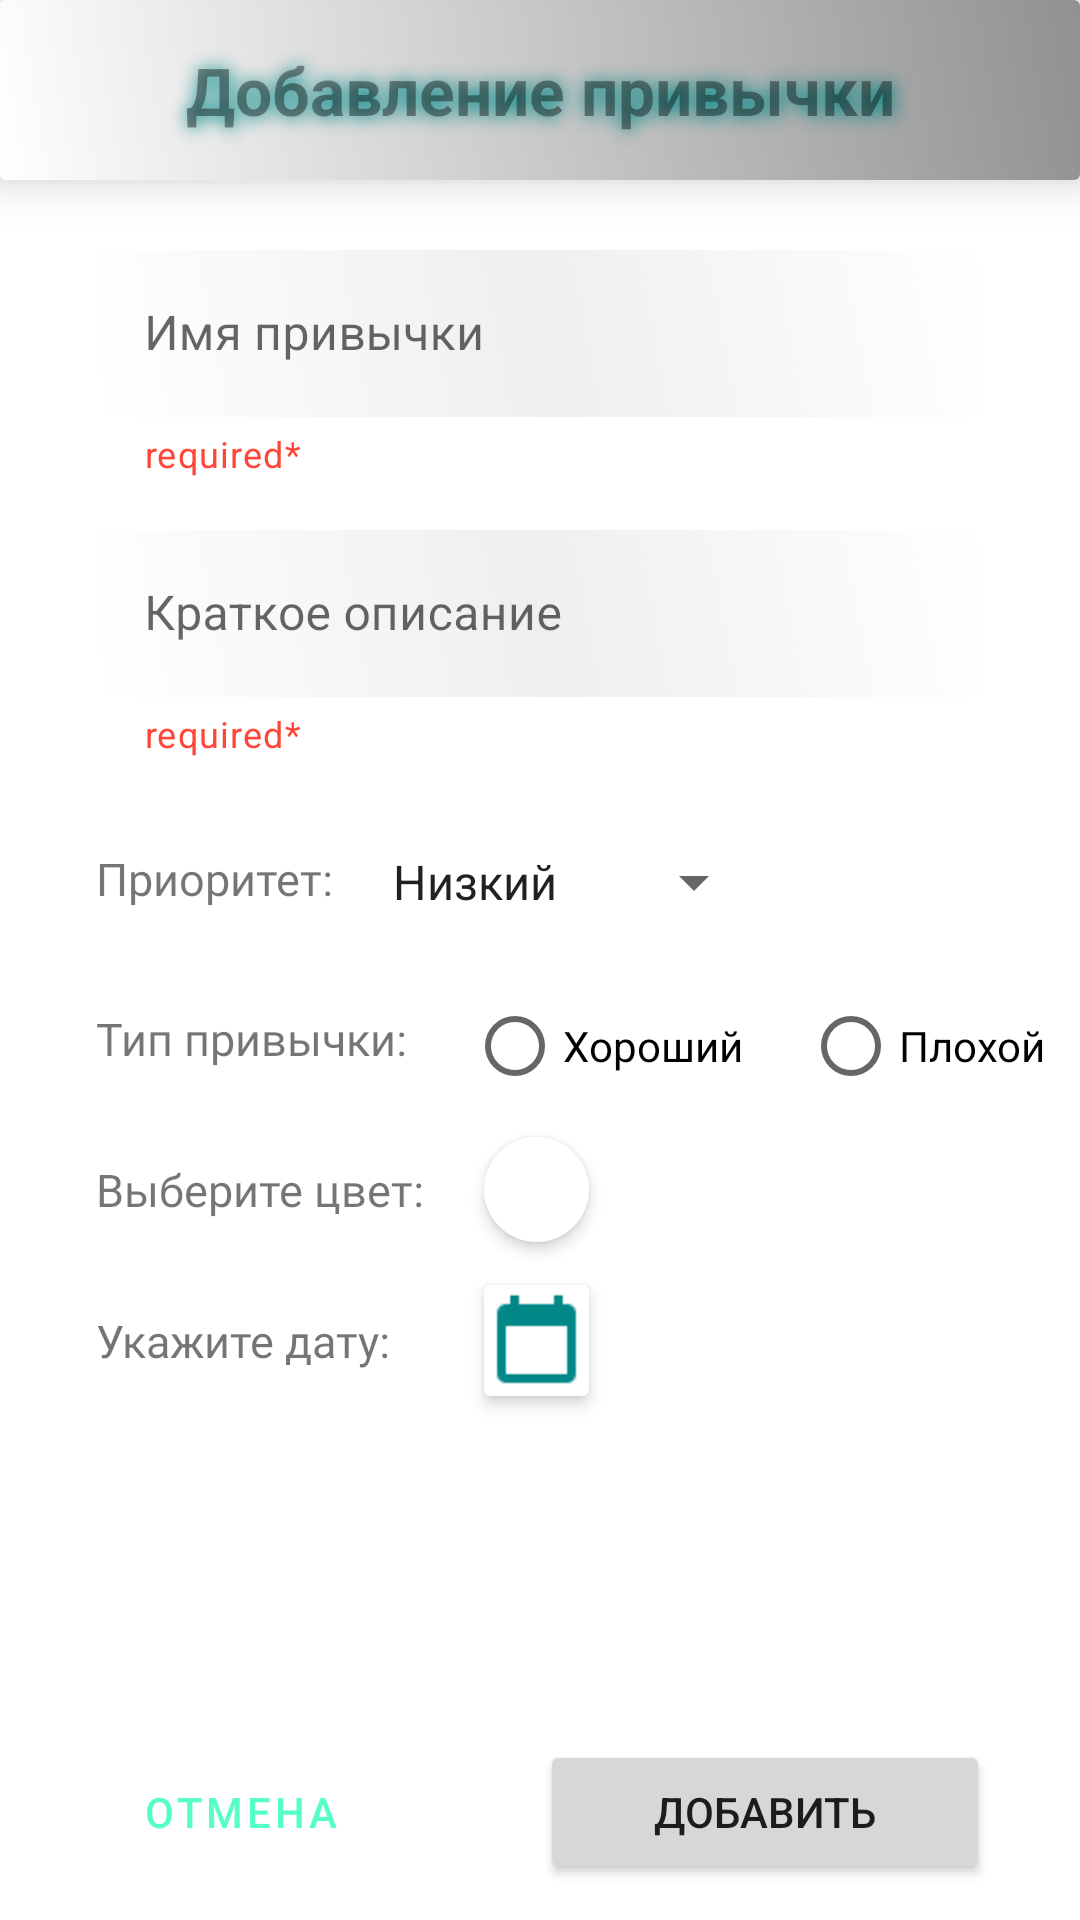

Where to tap for icons on this 1080x1920 app screen, as (x=x, y=y):
calendar: (x=536, y=1339)
